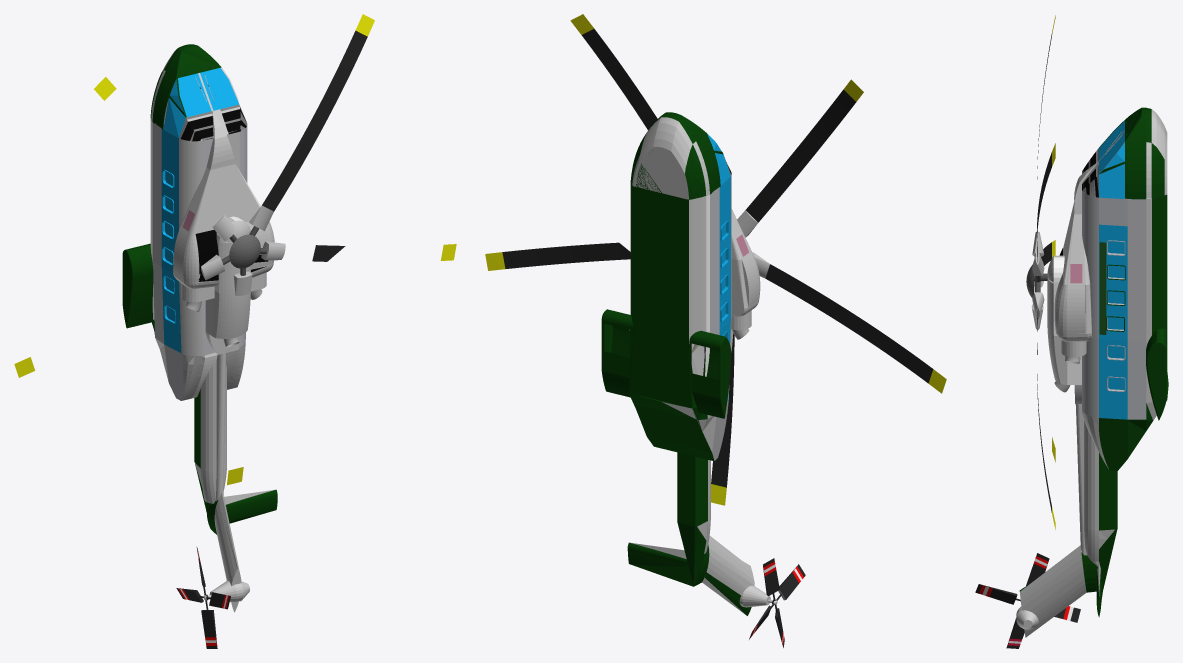
File: 陆军一号（美国总统专用）.obj
The picture shows the model from 3 angles, left to right: view 1: azimuth 30°, elevation 25°; view 2: azimuth 150°, elevation 25°; view 3: azimuth 270°, elevation 25°; orthographic projection. The views are drawn at different scales.
Parts seen in each view (by area): view 1: obj2576, obj5197, obj2472, obj3123, obj6080, obj2406, obj3124; view 2: obj6285, obj5504, obj5503, obj2472, obj5197, obj6444, obj229, obj248, obj5118, obj5117, obj5115; view 3: obj2525, obj2524, obj2494, obj2538, obj3167, obj2140, obj2143, obj2446, obj2452, obj5203, obj6257, obj5098 (+21 smaller).
Boxes of the visible parts, x1,y1,x2,y2 form: obj2576: [210, 164, 247, 229]; obj5197: [161, 129, 178, 272]; obj2472: [152, 123, 161, 266]; obj3123: [161, 267, 181, 352]; obj6080: [178, 67, 221, 108]; obj2406: [164, 344, 183, 400]; obj3124: [152, 261, 164, 343]; obj6285: [633, 186, 688, 343]; obj5504: [630, 344, 691, 408]; obj5503: [630, 330, 688, 392]; obj2472: [710, 188, 719, 334]; obj5197: [719, 176, 730, 331]; obj6444: [602, 321, 633, 377]; obj229: [697, 457, 707, 526]; obj248: [678, 453, 687, 524]; obj5118: [702, 196, 706, 331]; obj5117: [697, 197, 701, 331]; obj5115: [692, 198, 696, 330]; obj2525: [1127, 226, 1146, 340]; obj2524: [1099, 339, 1127, 419]; obj2494: [1099, 224, 1127, 340]; obj2538: [1127, 340, 1146, 419]; obj3167: [1099, 418, 1127, 470]; obj2140: [1099, 453, 1114, 530]; obj2143: [1147, 343, 1165, 417]; obj2446: [1107, 241, 1124, 329]; obj2452: [1146, 198, 1151, 340]; obj5203: [1099, 197, 1127, 226]; obj6257: [1099, 242, 1106, 334]; obj5098: [1152, 197, 1156, 334].
Bounding box in the file's own units: 698 × 874 × 258.
